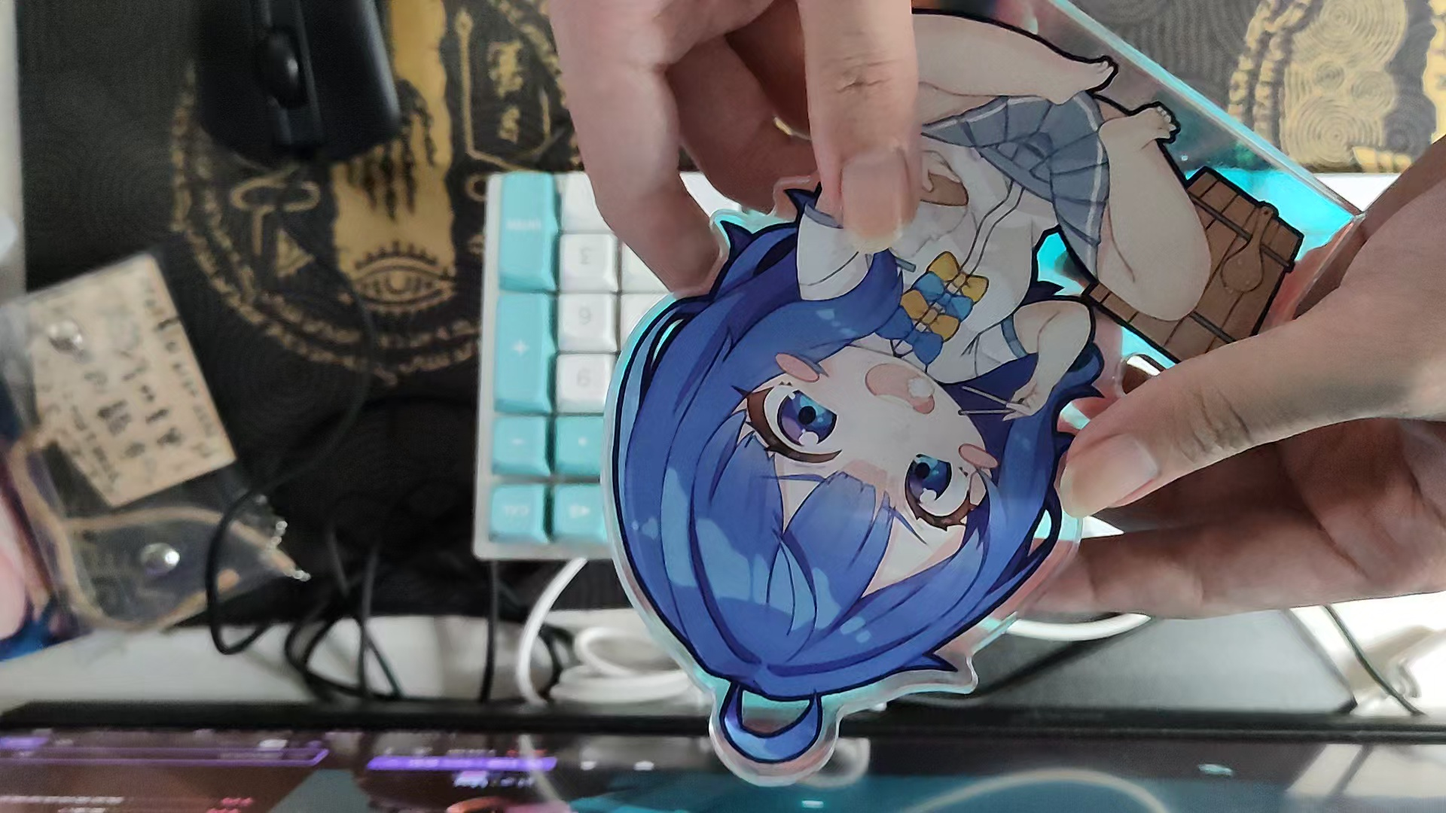Yanami-anna: (600, 0, 1364, 789)
